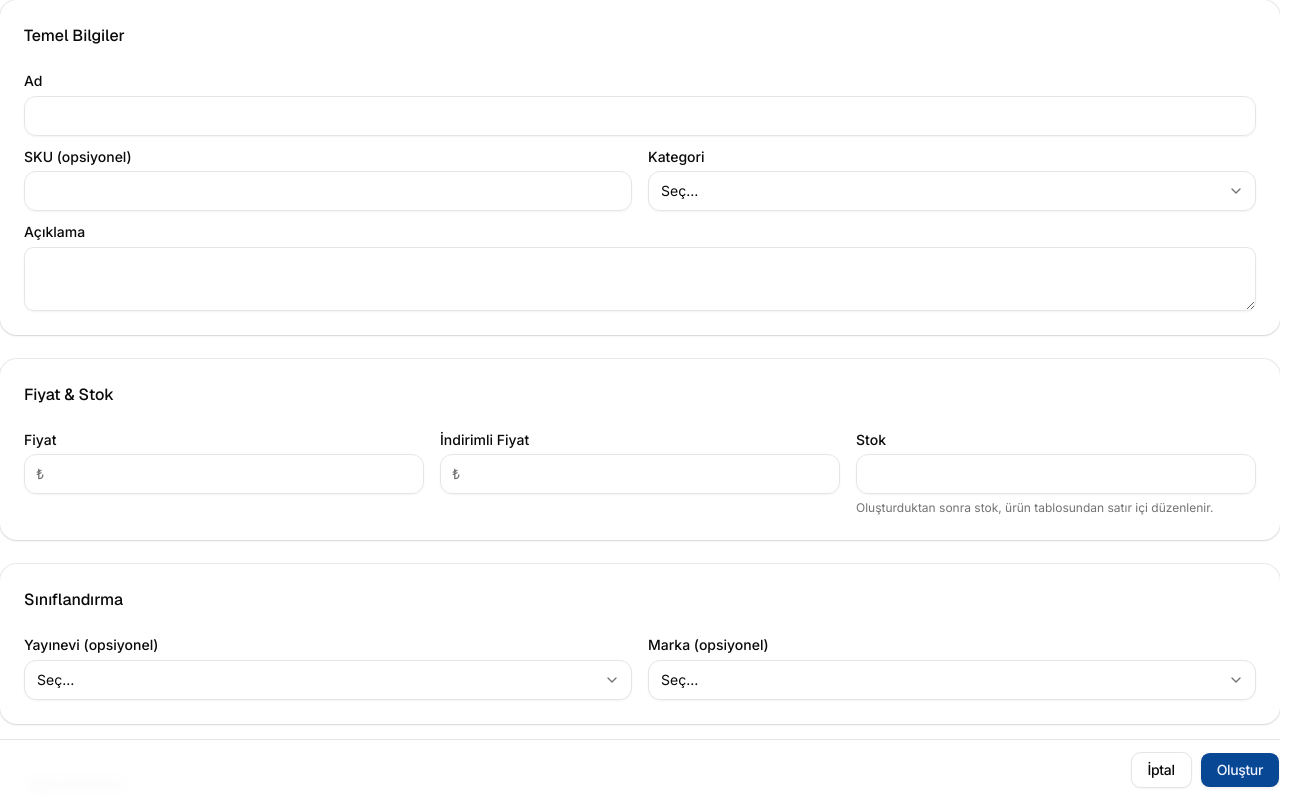
Test case: ProductForm › sunucunun 400 döndürdüğü alan hatası, ilgili input'un altında görünür
This screenshot has width=1292, height=800.
Type "Test Kitap" into the field labelled "Ad".
click(640, 116); type("Test Kitap")  # box x1=24 y1=96 x2=1256 y2=136
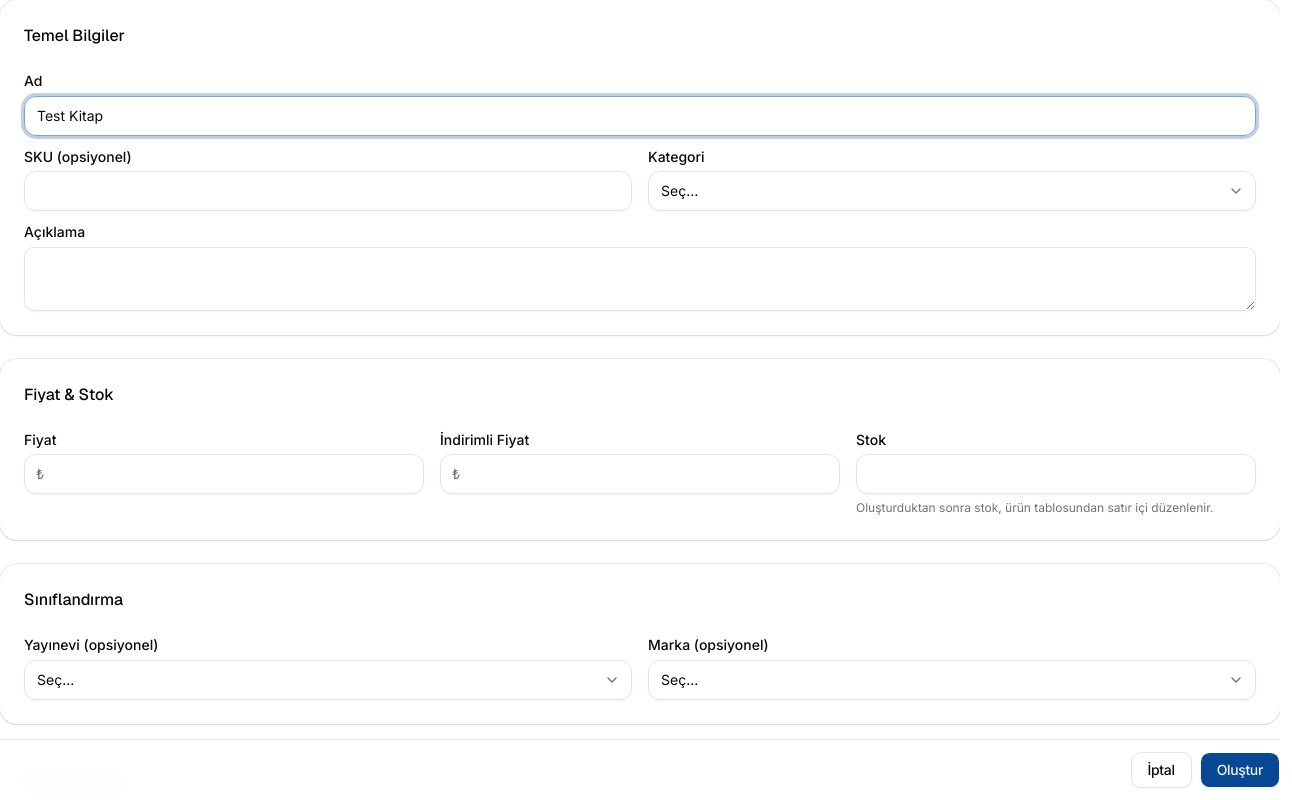
Type "50" into the number field labelled "Fiyat".
click(224, 474); type("50")  # box x1=24 y1=454 x2=424 y2=494
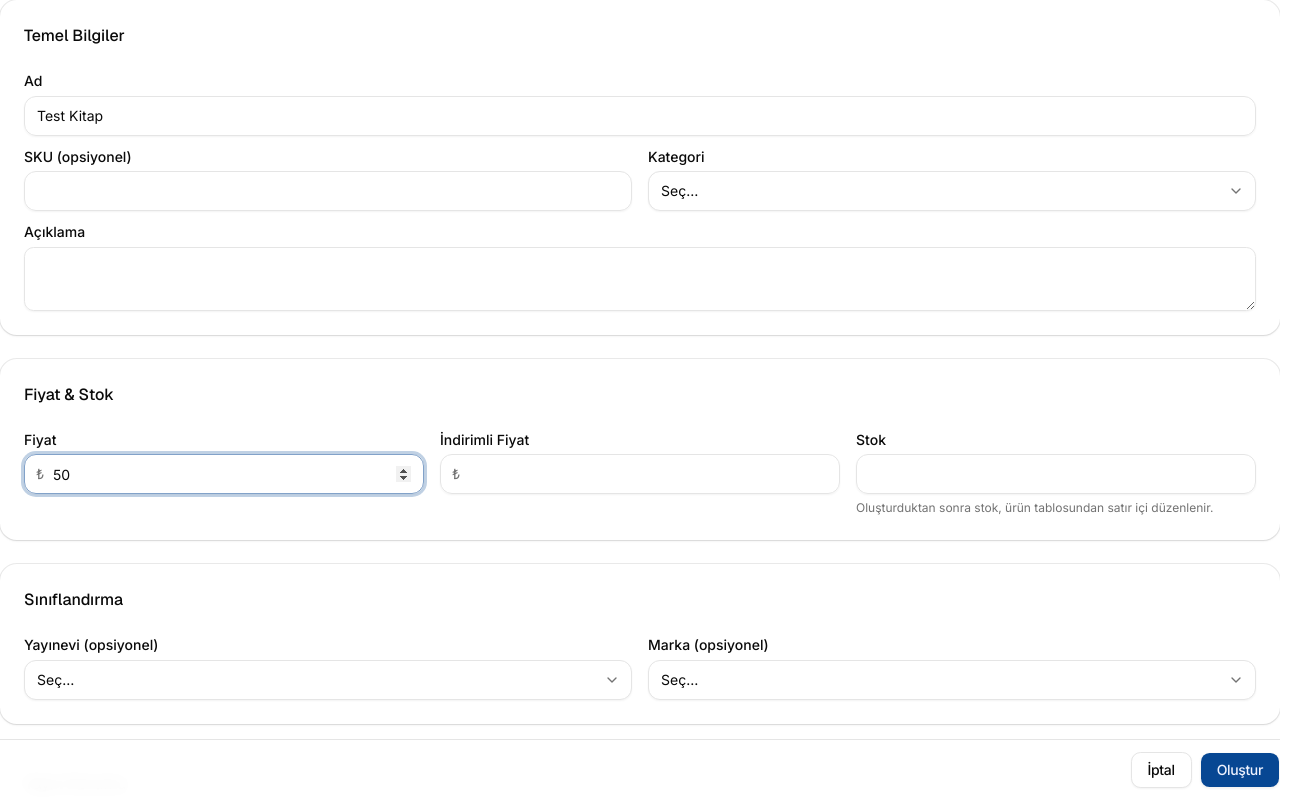
Select "Roman" in the dropdown labelled "Kategori" at (952, 191), box x1=648 y1=171 x2=1256 y2=211
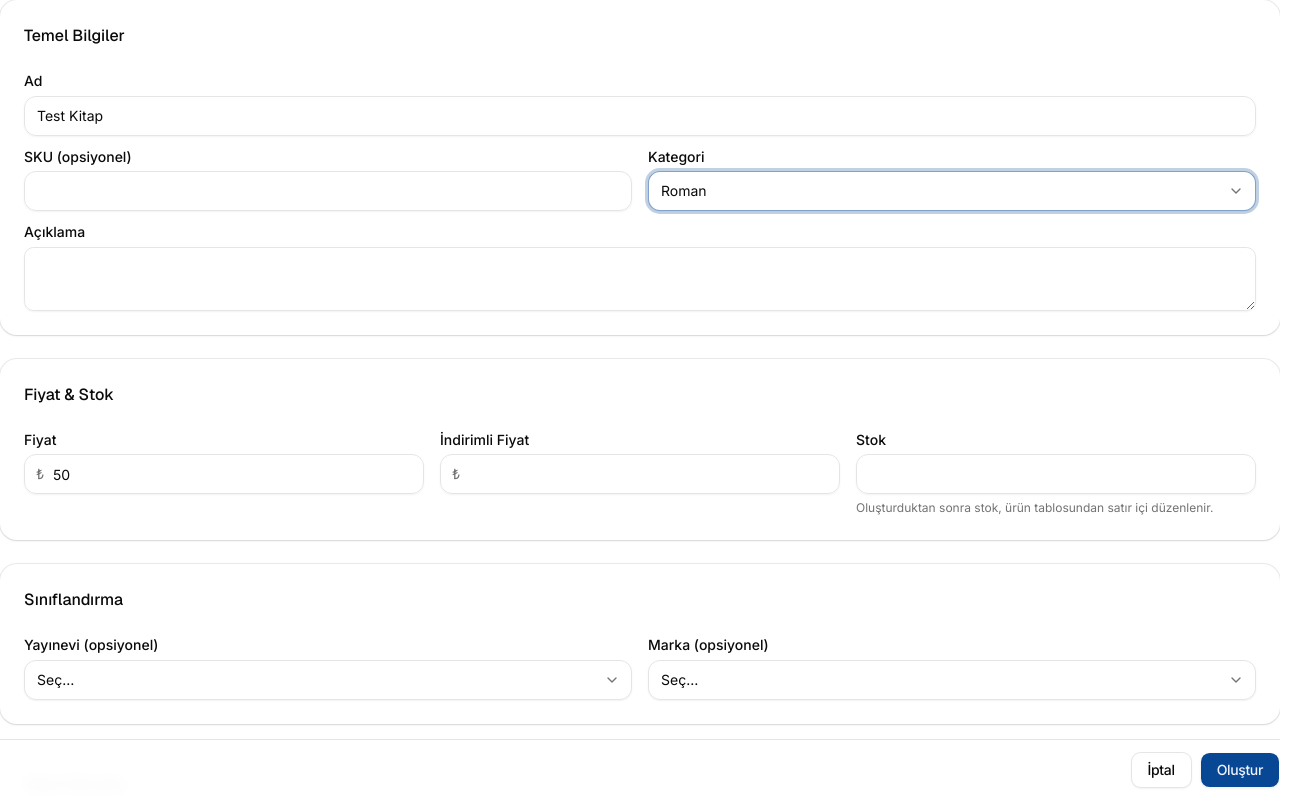
Click the button "Oluştur".
click(1240, 770)  # box x1=1200 y1=752 x2=1280 y2=788
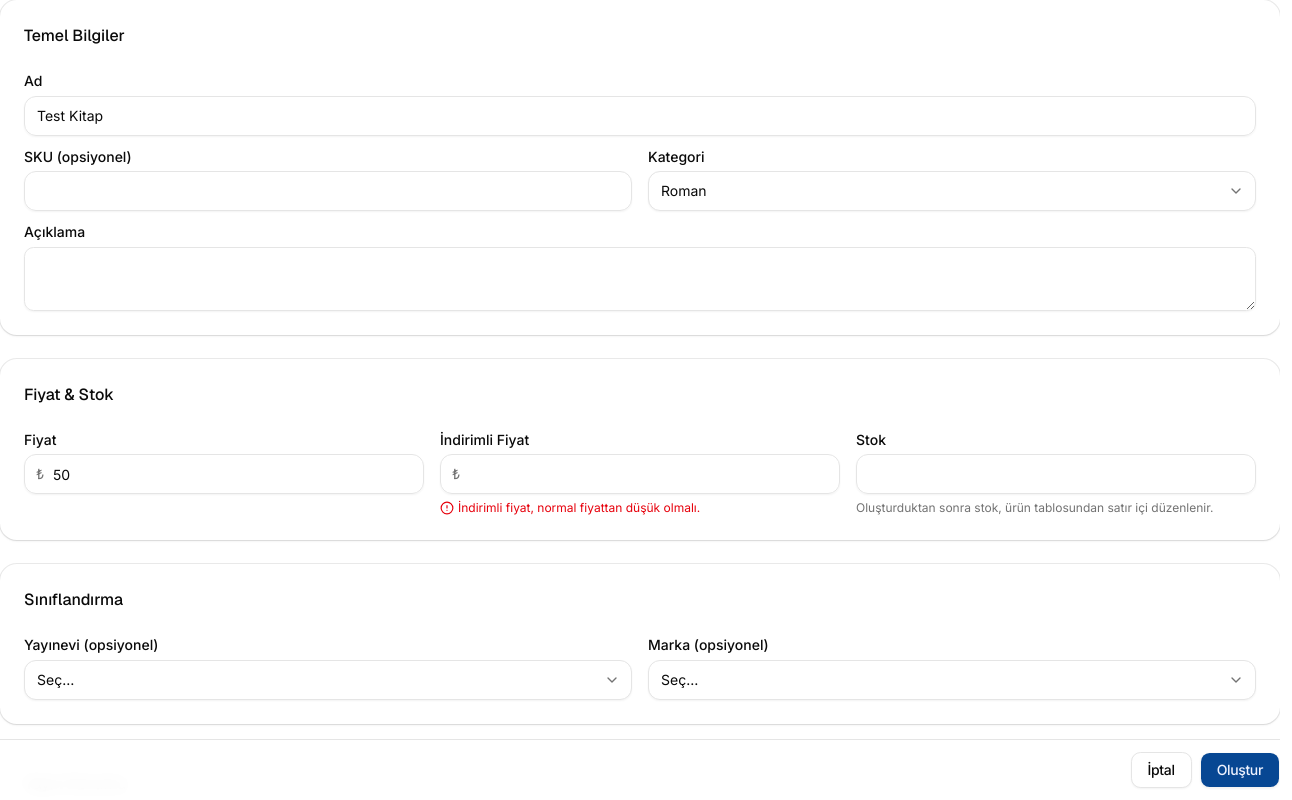
Expected: the text "İndirimli fiyat, normal fiyattan düşük olmalı." is shown, x1=440 y1=500 x2=700 y2=515
